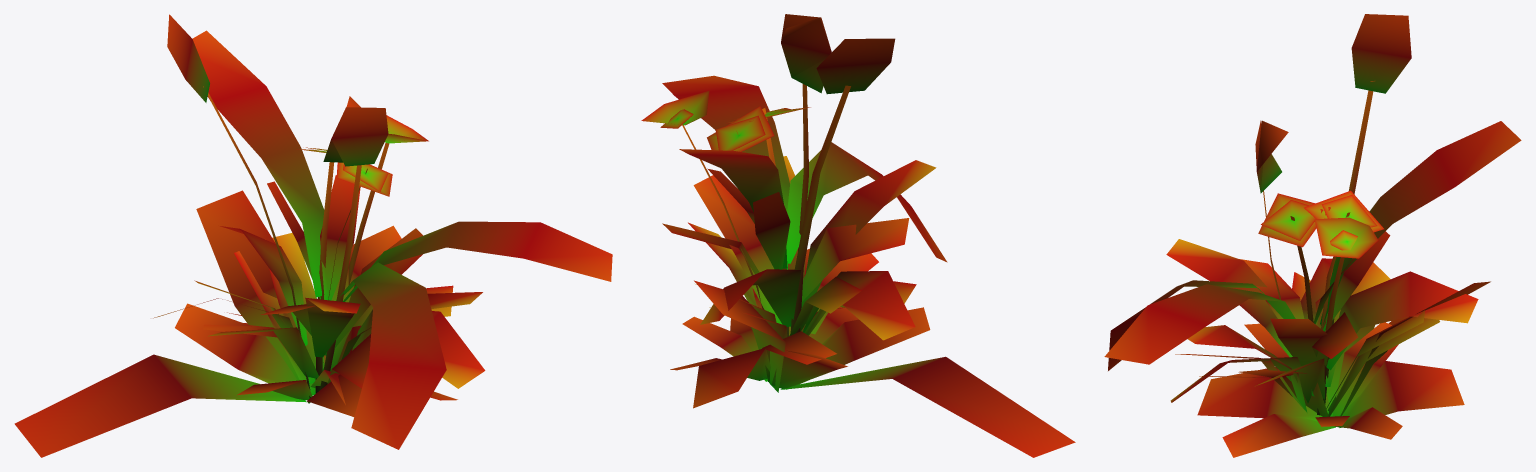
Rendered from Cape Weed_LOD2_Var5_tjmhfcyia.fbx.
3 renders of one model, left to right at view 1: azimuth 30°, elevation 25°; view 2: azimuth 150°, elevation 25°; view 3: azimuth 270°, elevation 25°, orthographic. The views are drawn at different scales.
Parts seen in each view (by area): view 1: _e3d9_Var5_LOD2; view 2: _e3d9_Var5_LOD2; view 3: _e3d9_Var5_LOD2.
Boxes of the visible parts, x1,y1,x2,y2 form: _e3d9_Var5_LOD2: (14, 14, 612, 457); _e3d9_Var5_LOD2: (641, 14, 1075, 457); _e3d9_Var5_LOD2: (1104, 14, 1521, 457).
Size of the model in its own units: 23.88 by 18.22 by 18.87.
